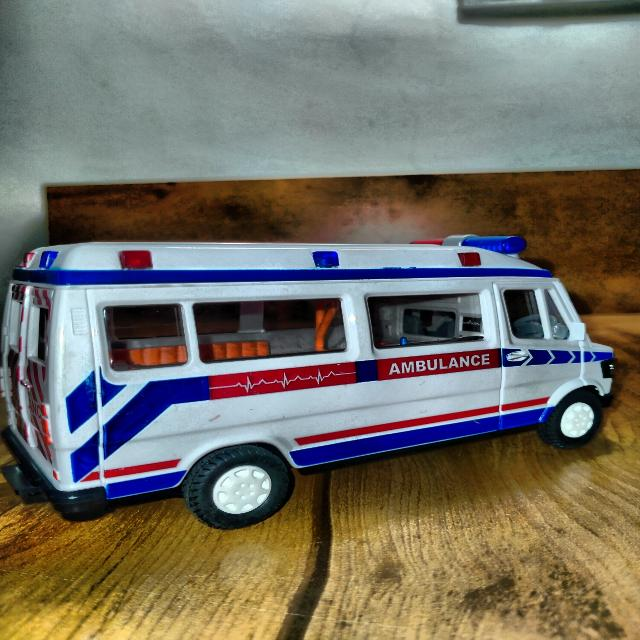Ambulance: (2, 236, 614, 529)
